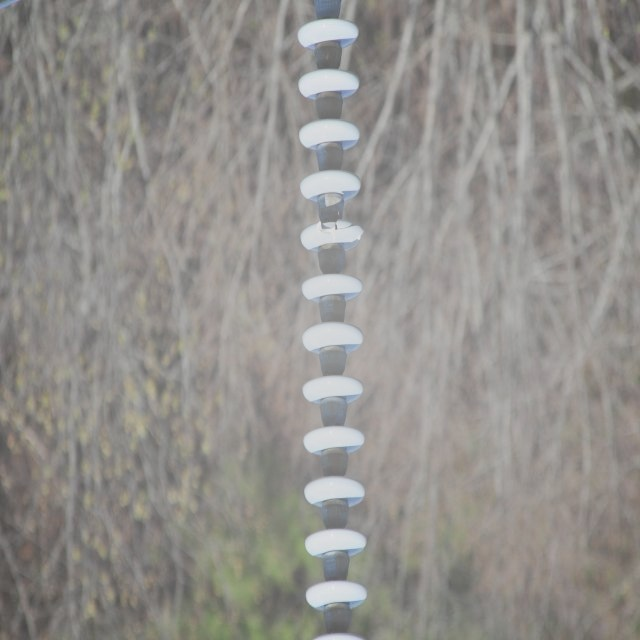broken: (318, 214, 362, 246)
insulator: (296, 18, 368, 640)
